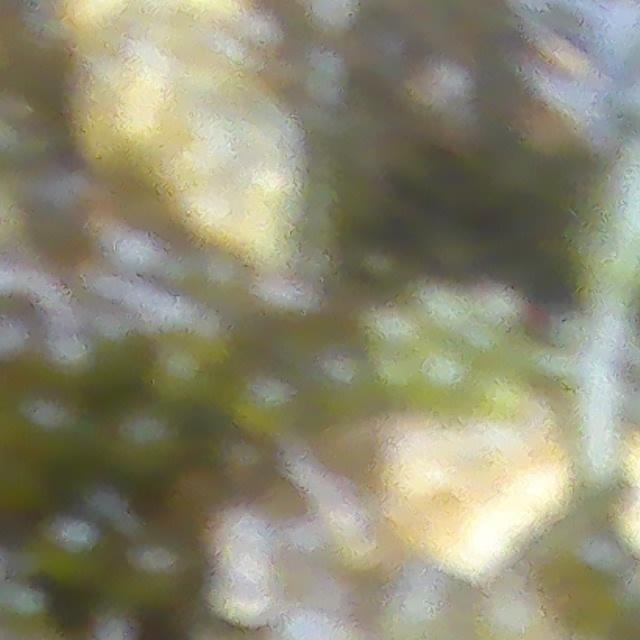SeaGrape: (100, 397, 194, 492), (401, 336, 481, 422), (205, 561, 284, 623), (209, 506, 284, 559)
